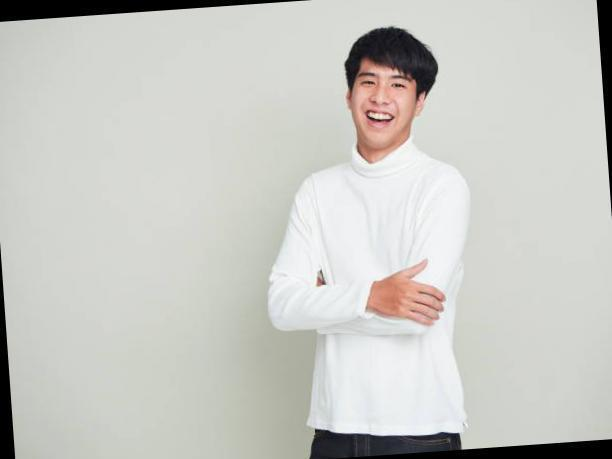Sober: (356, 58, 412, 146)
